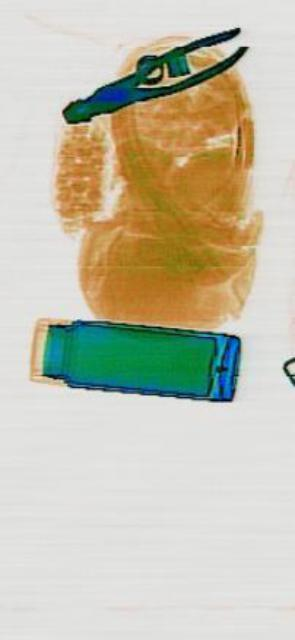Pliers: (58, 15, 247, 137)
